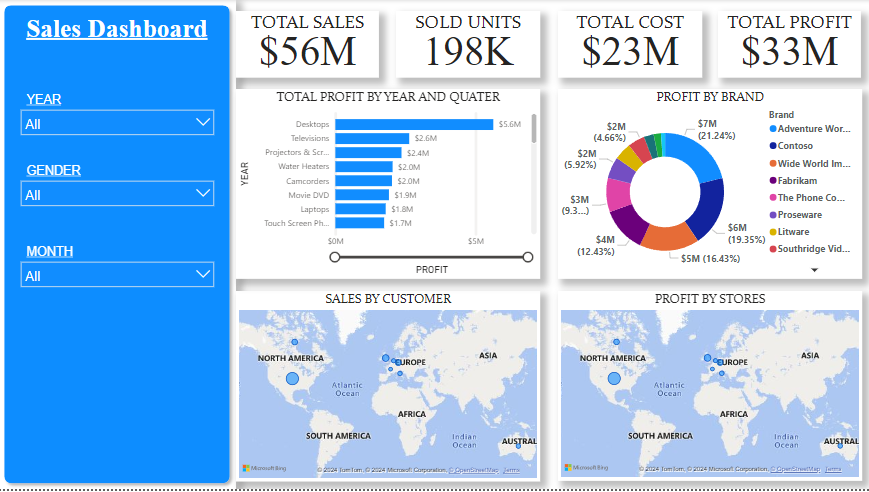

This screenshot's page, from the dashboard's own definition file:
{"tool":"powerbi","page":{"name":"PRODUCT DASHBOARD","canvas":[1280,720],"ordinal":1},"visuals":[{"type":"shape","box":[0,0,349.4,720.6],"z":0},{"type":"textbox","box":[0,16.8,349.4,79],"z":1000},{"type":"slicer","fields":{"Values":["data_spark sales.Order Year"]},"box":[24.2,153.5,303.6,70.7],"z":2000},{"type":"slicer","fields":{"Values":["data_spark customer.Gender"]},"box":[24.2,257,303.6,70.7],"z":3000},{"type":"card","title":"TOTAL SALES","fields":{"Values":["Sum(data_spark sales.Amount)"]},"box":[350.2,17.3,210.5,98.3],"z":4000},{"type":"slicer","fields":{"Values":["data_spark sales.Order_month"]},"box":[24.2,376.1,303.6,72.5],"z":5000},{"type":"card","title":"SOLD UNITS","fields":{"Values":["data_spark sales.TOTAL QTY"]},"box":[584.8,17.3,212.2,98.3],"z":6000},{"type":"card","title":"TOTAL COST","fields":{"Values":["data_spark sales.COST_m"]},"box":[822.9,17.3,212.2,98.3],"z":7000},{"type":"card","title":"TOTAL PROFIT","fields":{"Values":["data_spark sales.PROFIT"]},"box":[1057.5,17.3,210.5,98.3],"z":8000},{"type":"map","title":"SALES BY CUSTOMER","fields":{"Size":["data_spark sales.TOTAL QTY"],"Category":["data_spark customer.Country"]},"box":[350.2,429,447.3,279.9],"z":9000},{"type":"donutChart","title":"PROFIT BY BRAND","fields":{"Y":["data_spark sales.PROFIT"],"Category":["data_spark product.Brand"]},"box":[822.9,132.8,446.8,279.5],"z":10000},{"type":"textbox","box":[36.2,132.8,360.5,41.4],"z":11000},{"type":"barChart","title":"TOTAL PROFIT BY YEAR AND QUATER","fields":{"Category":["data_spark product.Subcategory"],"Y":["data_spark sales.PROFIT"]},"box":[350.2,132.8,446.8,279.5],"z":12000},{"type":"map","title":"PROFIT BY STORES","fields":{"Size":["data_spark sales.PROFIT"],"Category":["data_spark stores.Country"]},"box":[822.9,429.5,446.8,279.5],"z":13000},{"type":"textbox","box":[36.2,236.3,360.5,41.4],"z":14000},{"type":"textbox","box":[36.2,355.4,360.5,41.4],"z":15000}]}

Visuals, with their boxes in screenshot pixels (x1, y1, x2, y2), scaled from the page's 1280x720 canvas onto the 869x492 screenshot:
shape: (x1=0, y1=0, x2=237, y2=491)
textbox: (x1=0, y1=11, x2=237, y2=65)
slicer - data_spark sales.Order Year: (x1=16, y1=105, x2=223, y2=153)
slicer - data_spark customer.Gender: (x1=16, y1=176, x2=223, y2=224)
"TOTAL SALES" card: (x1=238, y1=12, x2=381, y2=79)
slicer - data_spark sales.Order_month: (x1=16, y1=257, x2=223, y2=307)
"SOLD UNITS" card: (x1=397, y1=12, x2=541, y2=79)
"TOTAL COST" card: (x1=559, y1=12, x2=703, y2=79)
"TOTAL PROFIT" card: (x1=718, y1=12, x2=861, y2=79)
"SALES BY CUSTOMER" map: (x1=238, y1=293, x2=541, y2=484)
"PROFIT BY BRAND" donutChart: (x1=559, y1=91, x2=862, y2=282)
textbox: (x1=25, y1=91, x2=269, y2=119)
"TOTAL PROFIT BY YEAR AND QUATER" barChart: (x1=238, y1=91, x2=541, y2=282)
"PROFIT BY STORES" map: (x1=559, y1=293, x2=862, y2=484)
textbox: (x1=25, y1=161, x2=269, y2=190)
textbox: (x1=25, y1=243, x2=269, y2=271)
